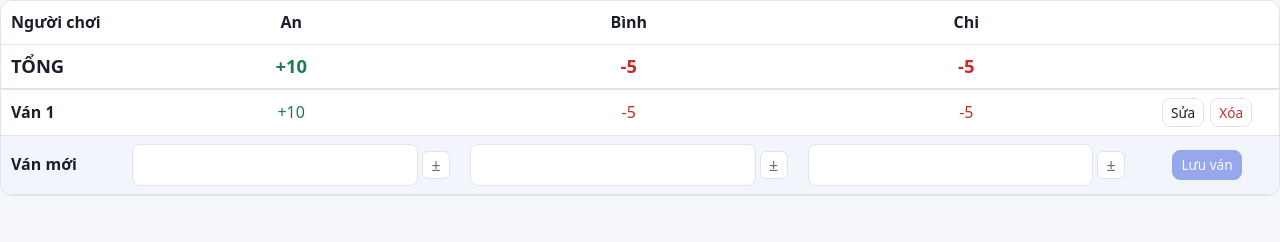
Test: ScoreTable new round row › flips the sign of the typed number with the ± button
Later steps or results of the test are not shown.
Step 1. Type "7" into the field named "Ván mới, điểm An" → (275, 165), box [132,144,418,186]
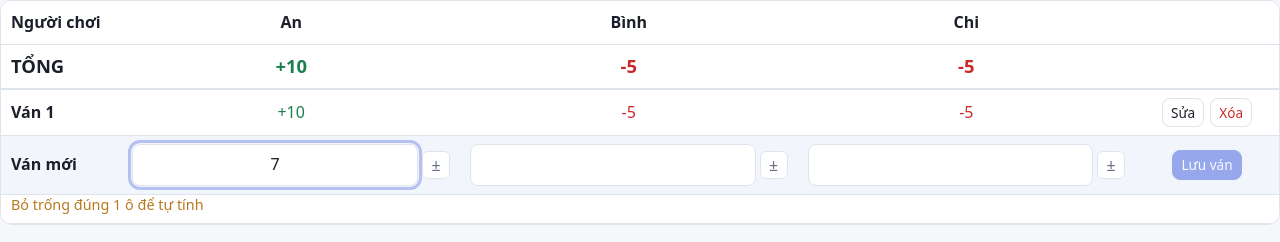
Step 2. Click the button named "Đổi dấu, Ván mới, điểm An" → (436, 165), box [422,151,450,179]
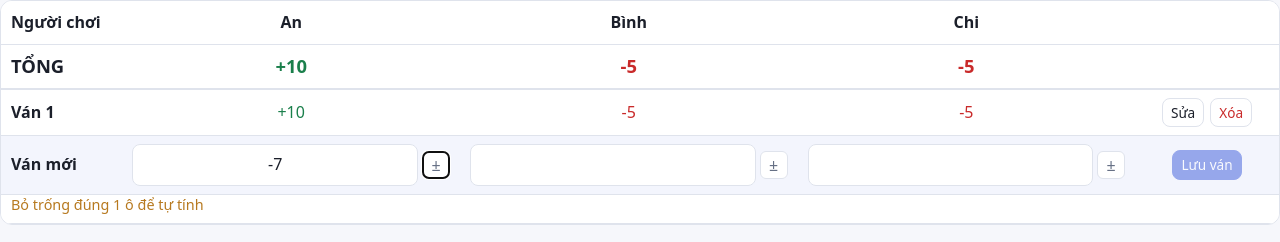
Now the field named "Ván mới, điểm An" holds "-7", box [132,144,418,186]
